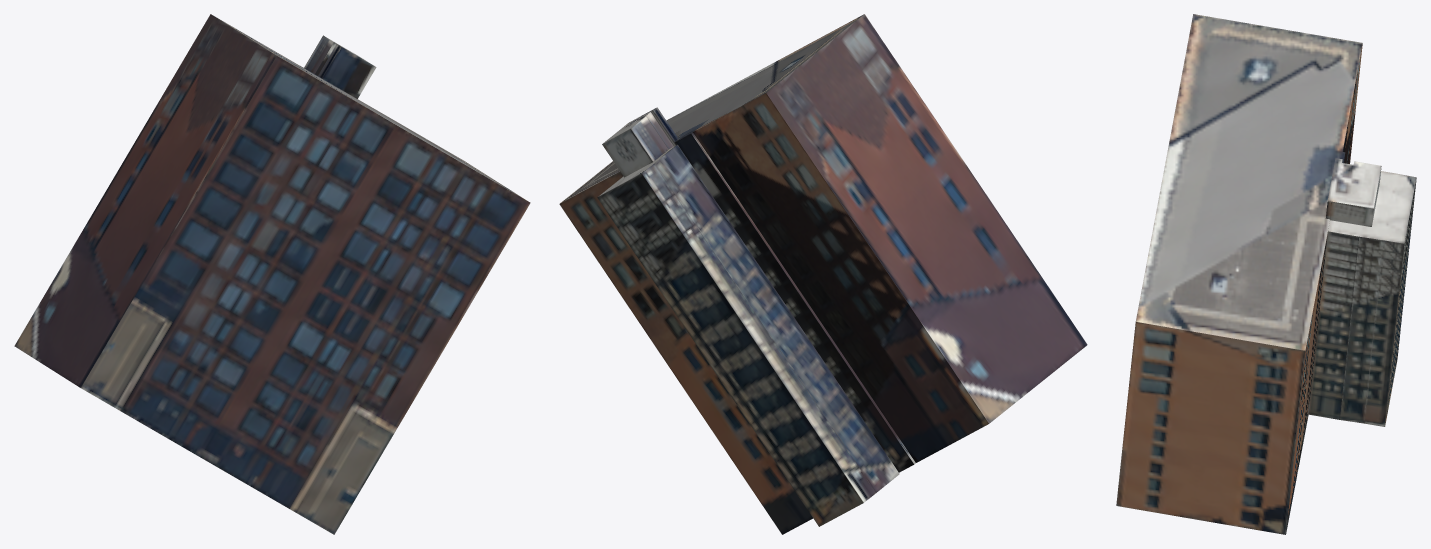
The picture shows the model from 3 angles, left to right: view 1: azimuth 30°, elevation 25°; view 2: azimuth 150°, elevation 25°; view 3: azimuth 270°, elevation 25°; orthographic projection. The views are drawn at different scales.
Parts seen in each view (by area): view 1: BAG_0599100000752501 (×3); view 2: BAG_0599100000752501 (×3); view 3: BAG_0599100000752501 (×3).
Boxes of the visible parts, box(x1,y1,x2,y2) form: BAG_0599100000752501 (×3): box(14, 14, 530, 534); BAG_0599100000752501 (×3): box(559, 14, 1087, 534); BAG_0599100000752501 (×3): box(1116, 14, 1416, 534).
Bounding box in the file's own units: 44.53 × 45.58 × 24.67.
1 material, 1 textured.
